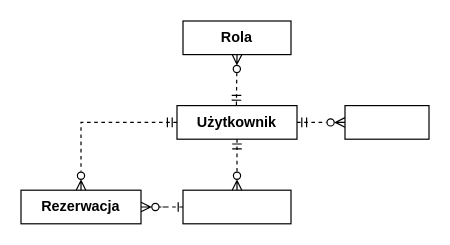
The diagram is 450 pixels wide and 245 high, and some of its shapes have lost their labels. The shapes that lost their labels are listed below. From the top down, each one's centre as x and y in pixels, then its label:
At pixel 386 121: "Pojazd".
At pixel 236 206: "Przejazd".
